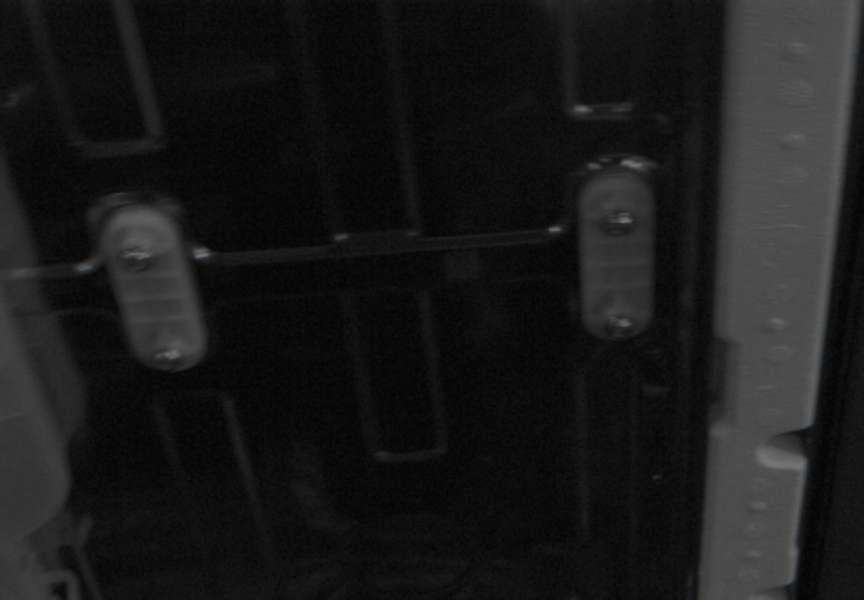screw: (118, 246, 155, 272), (600, 210, 636, 236), (604, 314, 636, 340), (152, 347, 184, 372)
